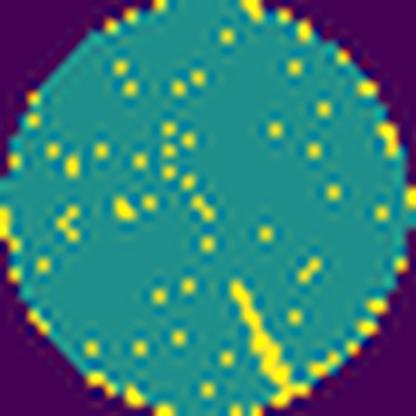Scratch: (227, 276, 298, 394)
